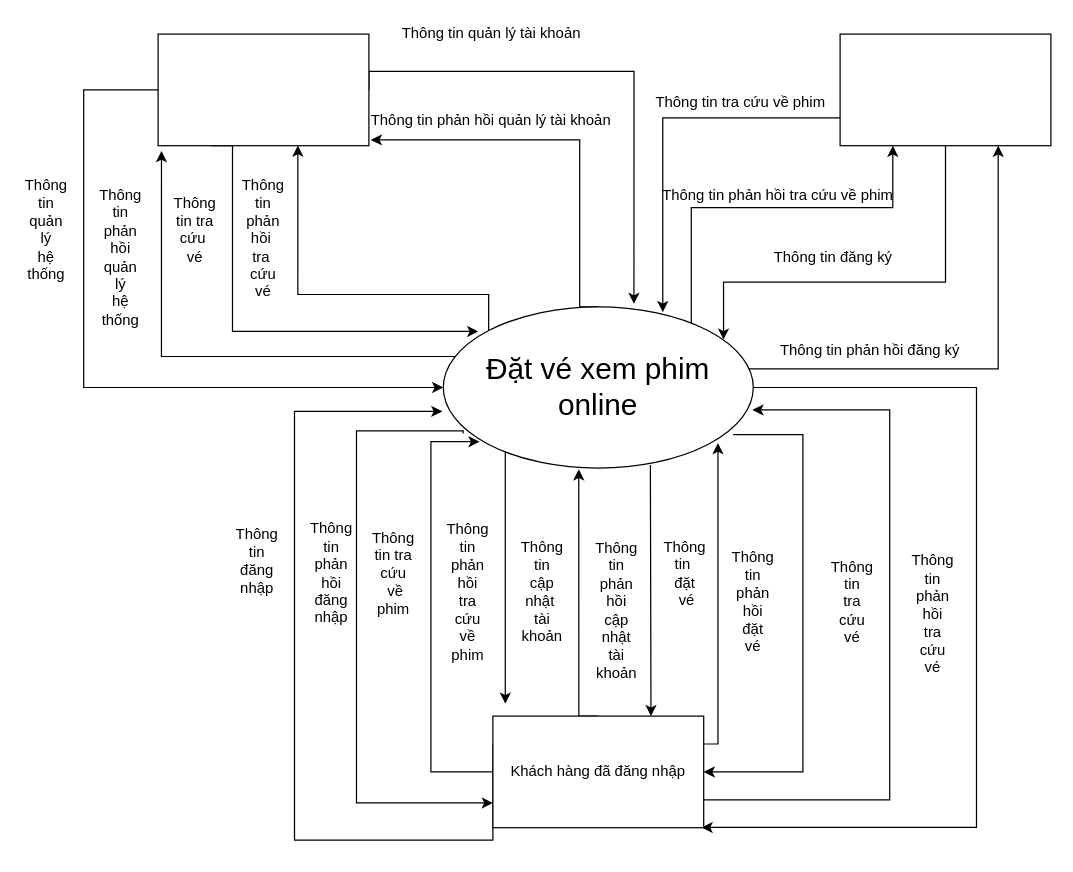
Some shapes in this 1073 by 872 pixel diagram are drawn without their labels. Here are the shapes that lost their labels. From the top down, the centre of each, then its label:
At (263,89): "Quản trị viên".
At (945,89): "Khách hàng chưa đăng nhập".
